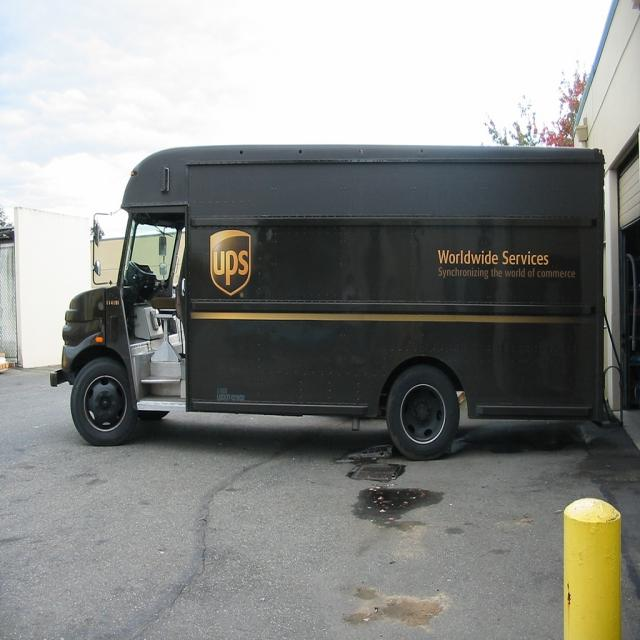ups: (211, 229, 253, 296)
